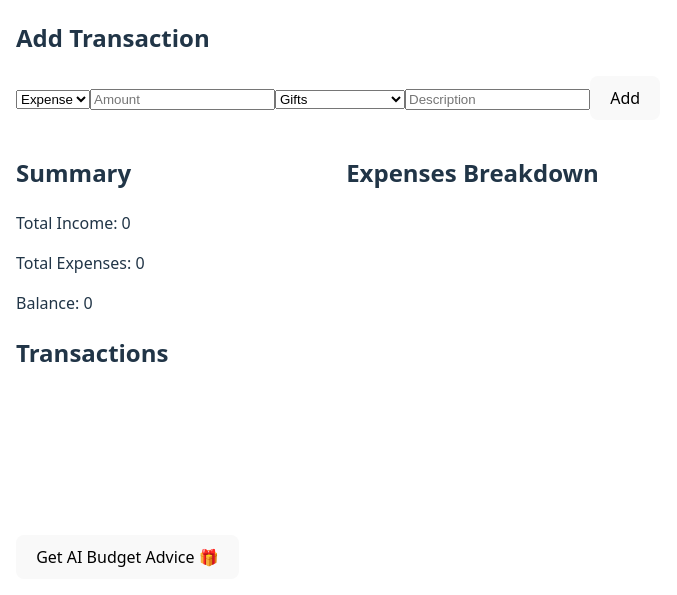
Test: App integration › adds a transaction and shows advisor suggestion
The image size is (677, 595).
Fill and submit form
Type "123" into the number field with placeholder "Amount". click: (182, 99)
box: [90,89,275,110]
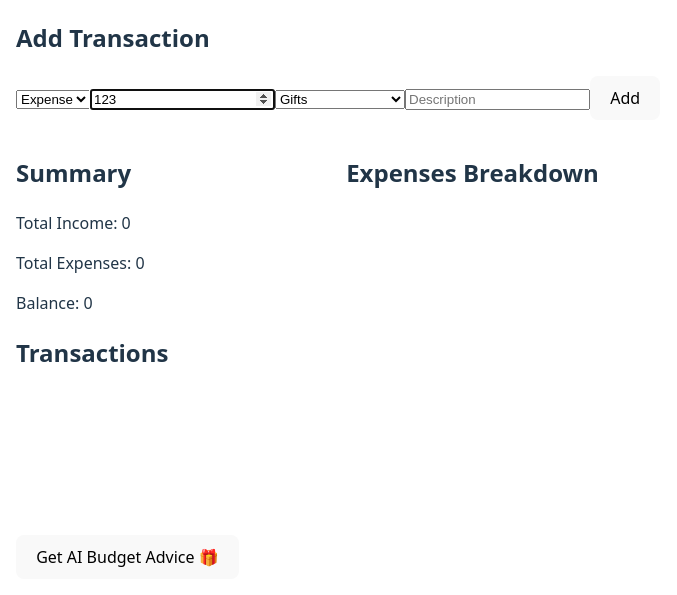
Select "Decorations" in the 2nd dropdown showing "Gifts". click: (340, 99)
box: [275,90,405,109]
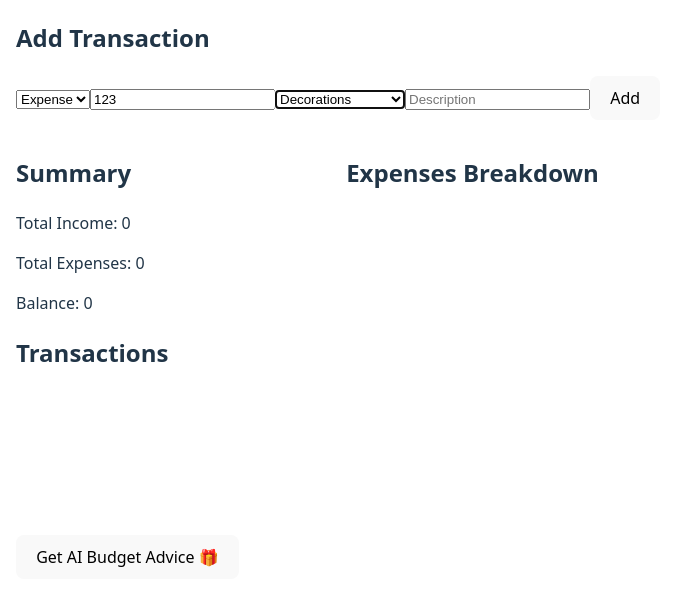
Type "Lights" into the field with placeholder "Description". click: (498, 99)
box: [405,89,590,110]
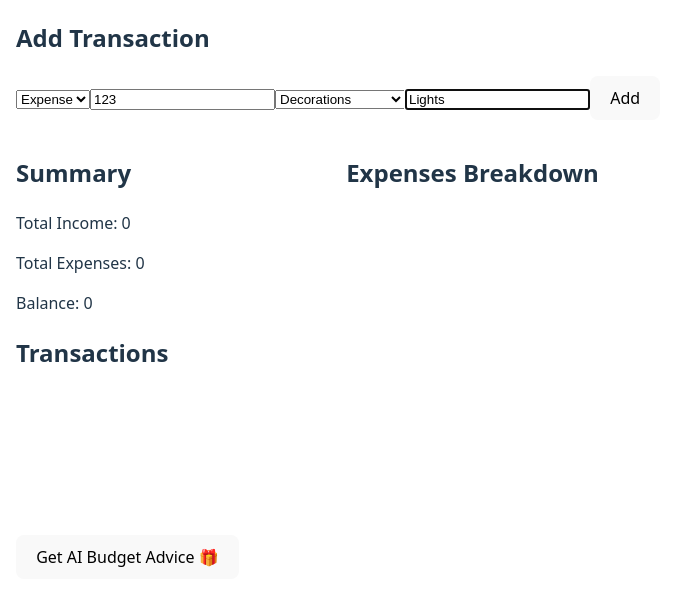
Click the button "Add". click: (625, 98)
box: [590,76,660,120]
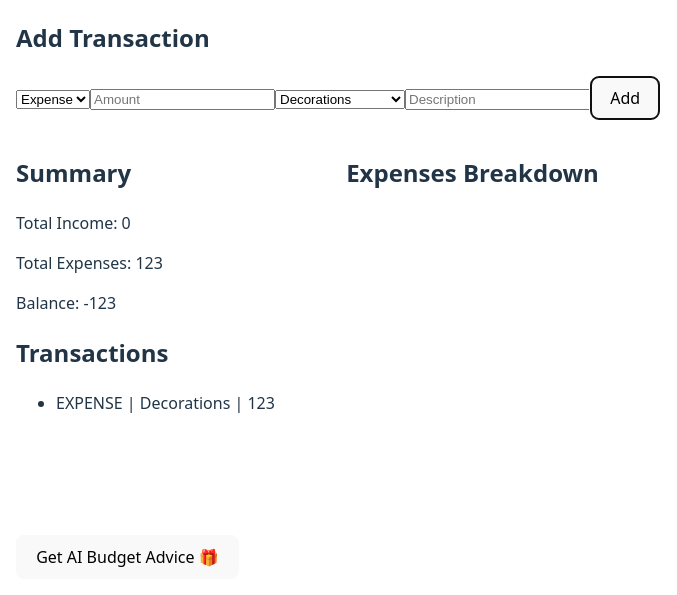
expect the list item "EXPENSE | Decorations | 123" is shown: met, box [56,392,275,414]
Click advisor
Click the button "Get AI Budget Advice 🎁". click: (127, 557)
box: [16,535,239,578]
(page scrolled)
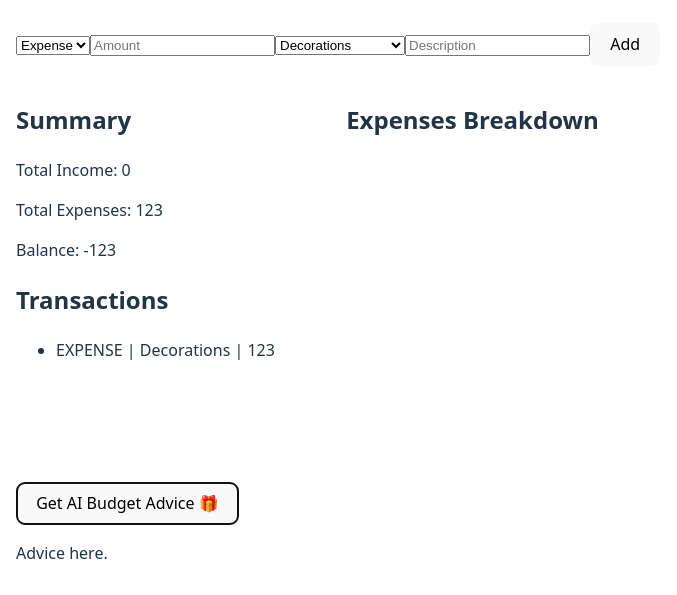
expect the text "Advice here." is shown: met, box [16,542,108,564]
